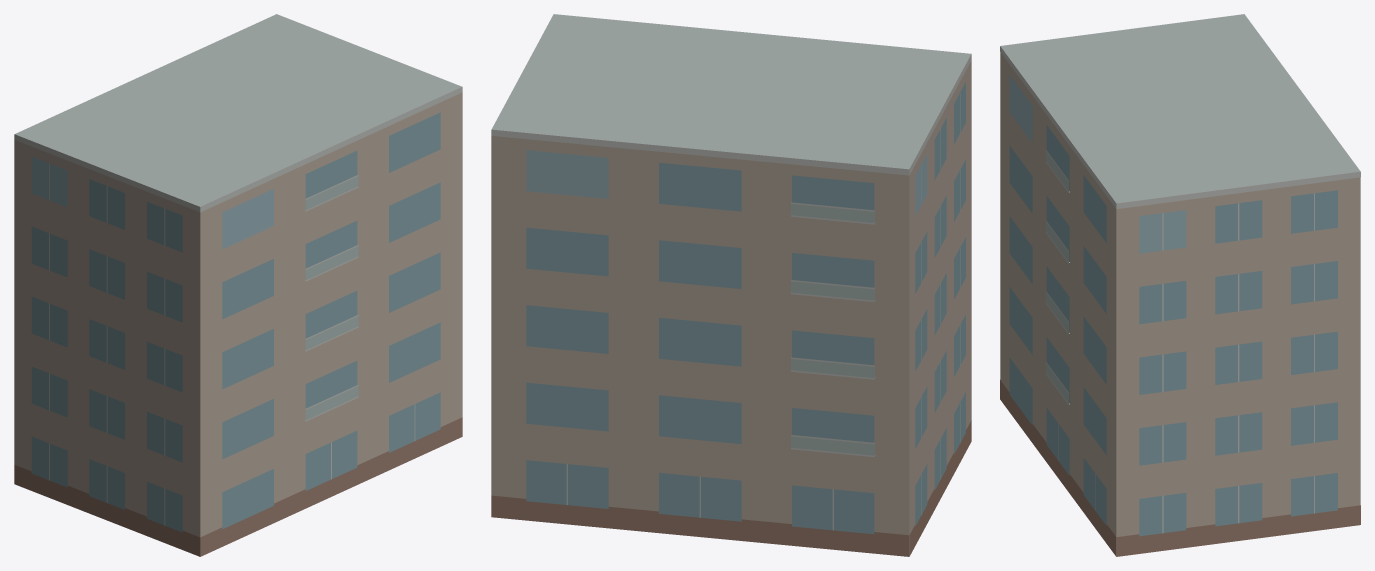
File: survey-upis-33045742.glb
The picture shows the model from 3 angles, left to right: view 1: azimuth 30°, elevation 25°; view 2: azimuth 150°, elevation 25°; view 3: azimuth 270°, elevation 25°; orthographic projection. The views are drawn at different scales.
Visible parts, largest first — view 1: survey-upis-33045742.tmp; view 2: survey-upis-33045742.tmp; view 3: survey-upis-33045742.tmp.
Boxes of the visible parts, bbox=[...] form: survey-upis-33045742.tmp: bbox=[14, 14, 462, 556]; survey-upis-33045742.tmp: bbox=[491, 14, 971, 556]; survey-upis-33045742.tmp: bbox=[1000, 14, 1360, 556].
Bounding box in the file's own units: 17.55 × 15.25 × 14.12.
